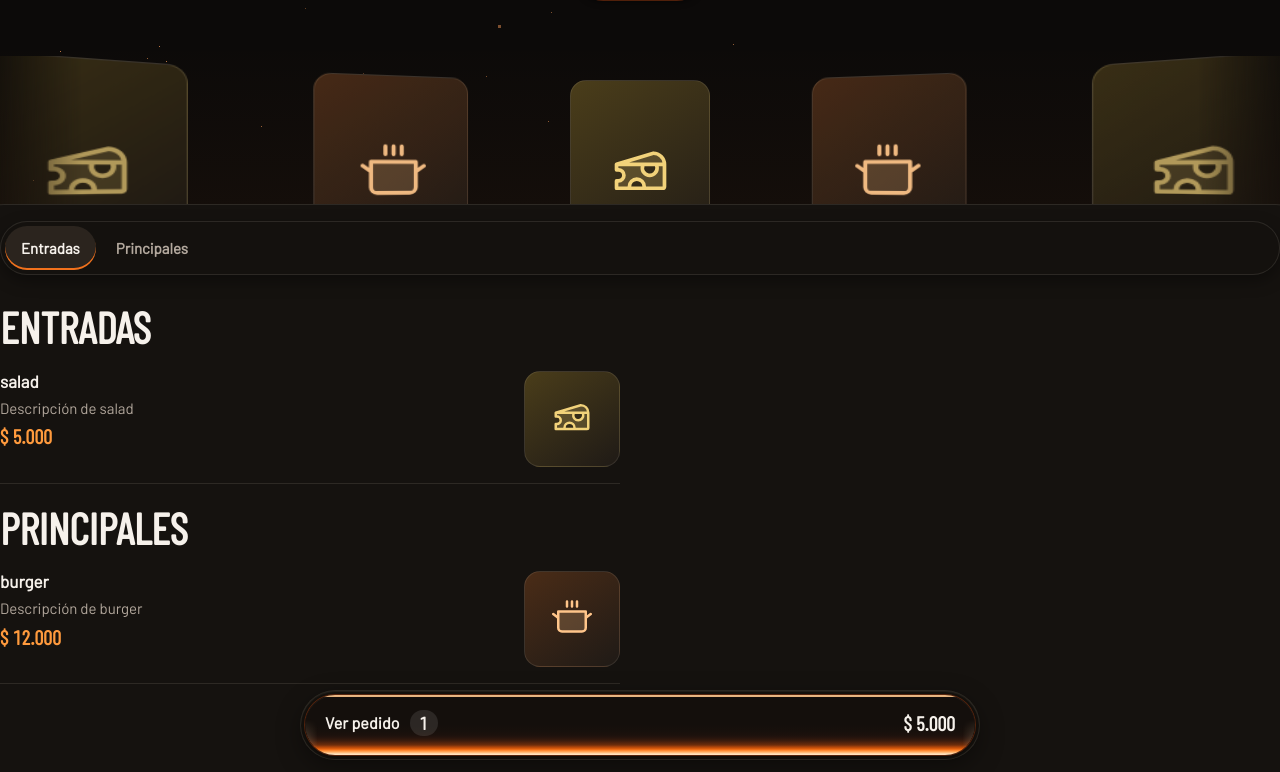
Test: MenuScreen con el pedido en curso (T8) › con un envío sin resolver el pedido no se puede modificar (RF26) › la ficha no deja agregar y lo explica
(page scrolled)
Click the button "salad Descripción de salad $ 5.000".
click(19, 381)  # box [0, 355, 620, 483]
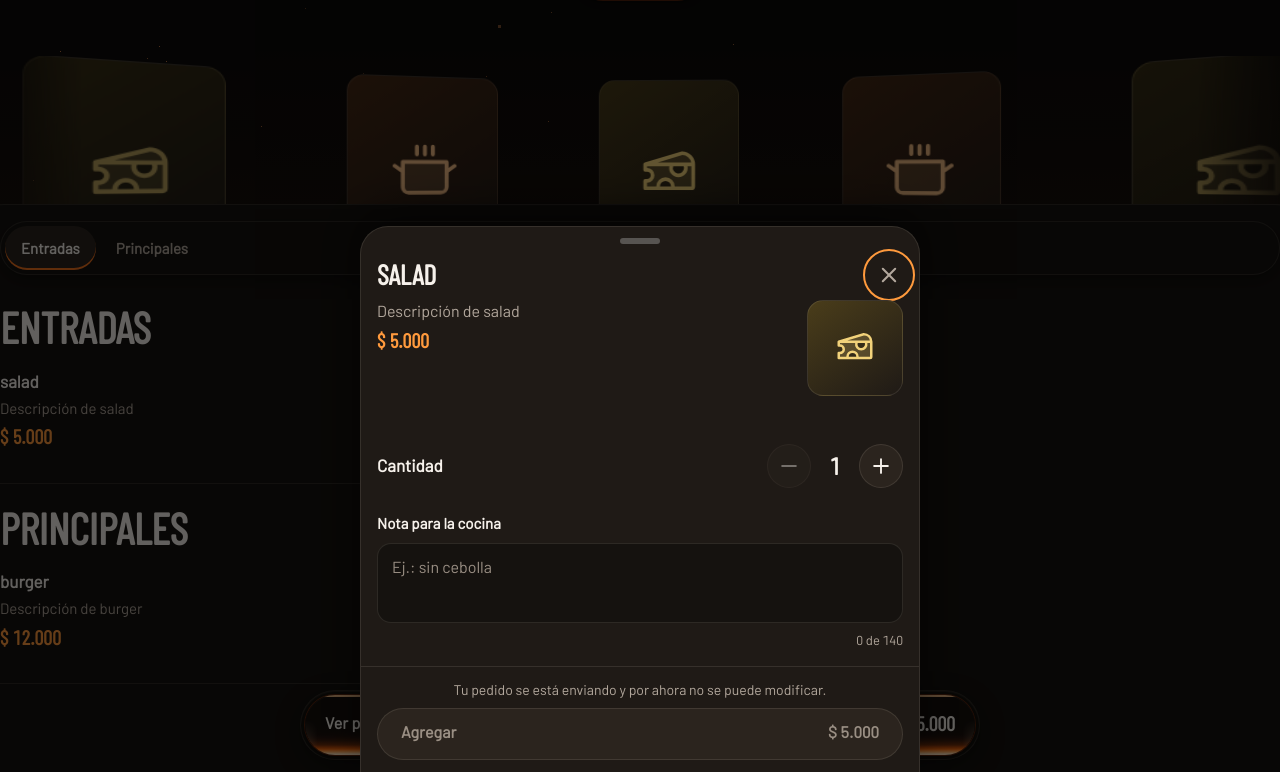
Now the button "Agregar $ 5.000" is disabled, box [377, 708, 903, 760]
